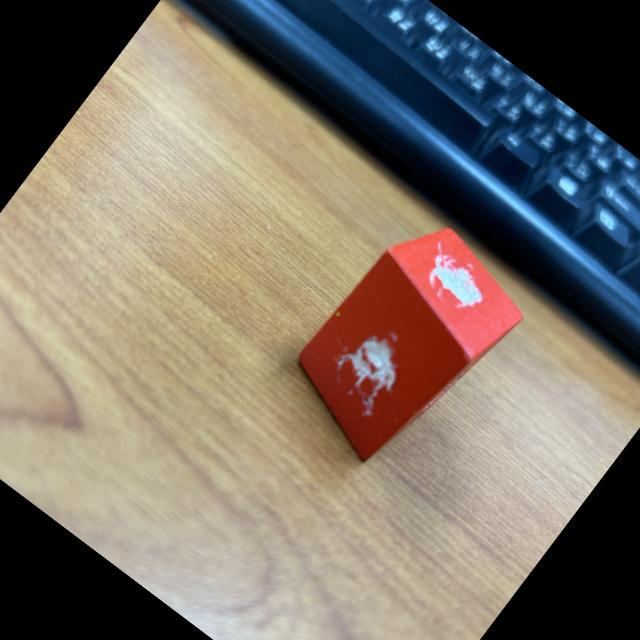broken: (268, 200, 540, 490)
